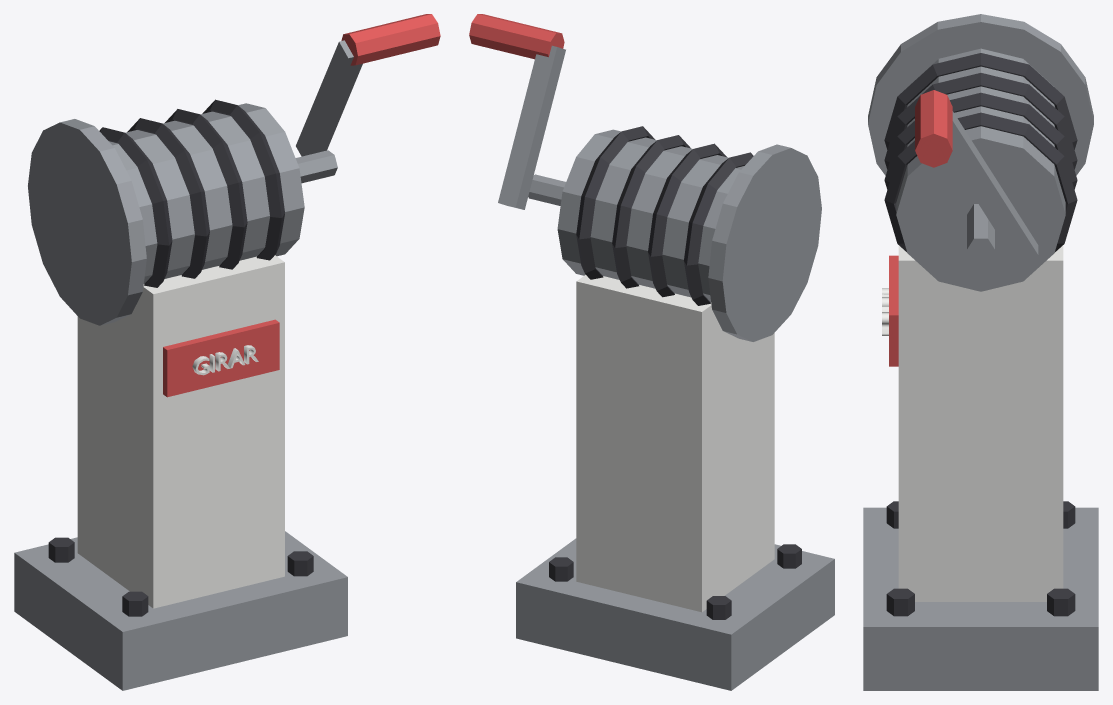
Rendered from CR_Manivela.fbx.
The picture shows the model from 3 angles, left to right: view 1: azimuth 30°, elevation 25°; view 2: azimuth 150°, elevation 25°; view 3: azimuth 270°, elevation 25°; orthographic projection. The views are drawn at different scales.
Parts seen in each view (by area): view 1: CR_Manivela; view 2: CR_Manivela; view 3: CR_Manivela.
Part boxes in pixels (x1,y1,x2,y2): CR_Manivela: (14,14,440,690); CR_Manivela: (469,14,834,690); CR_Manivela: (863,14,1098,690).
Size of the model in its own units: 0.91 by 1.45 by 0.5.
